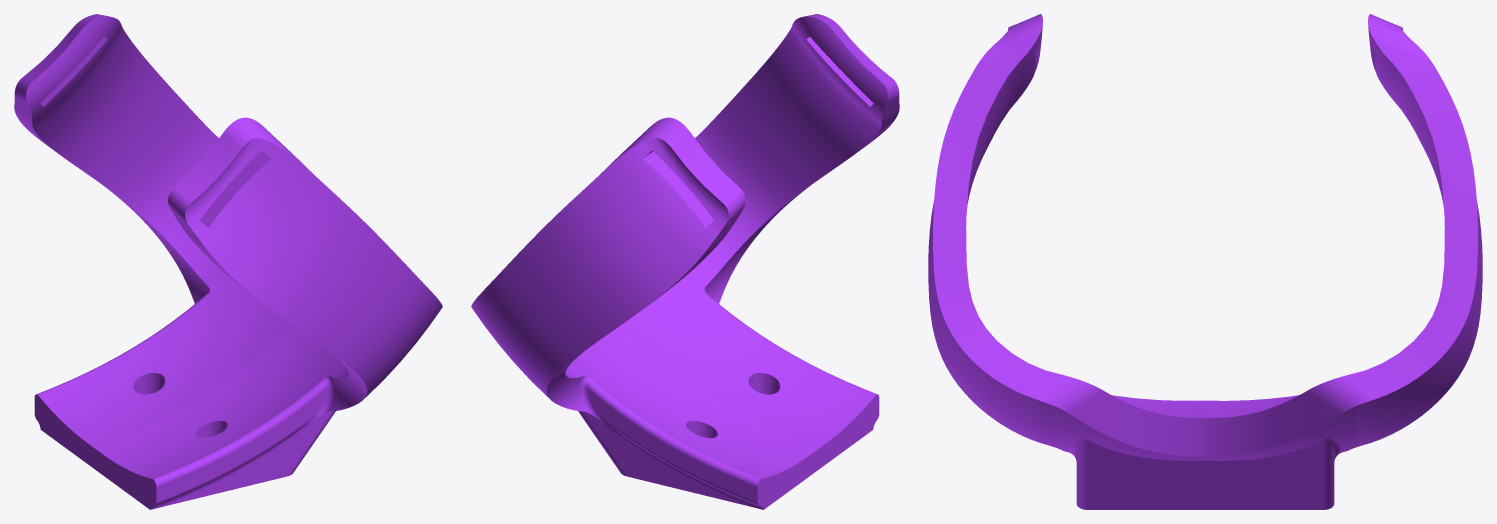
File: socket_2 - copia.glb
The picture shows the model from 3 angles, left to right: view 1: azimuth 30°, elevation 25°; view 2: azimuth 150°, elevation 25°; view 3: azimuth 270°, elevation 25°; orthographic projection. The views are drawn at different scales.
Parts seen in each view (by area): view 1: Socket 2; view 2: Socket 2; view 3: Socket 2.
Boxes of the visible parts, x1,y1,x2,y2 form: Socket 2: [14, 14, 442, 509]; Socket 2: [471, 14, 899, 509]; Socket 2: [928, 14, 1482, 509].
Bounding box in the file's own units: 0.0988 × 0.1354 × 0.1506.
